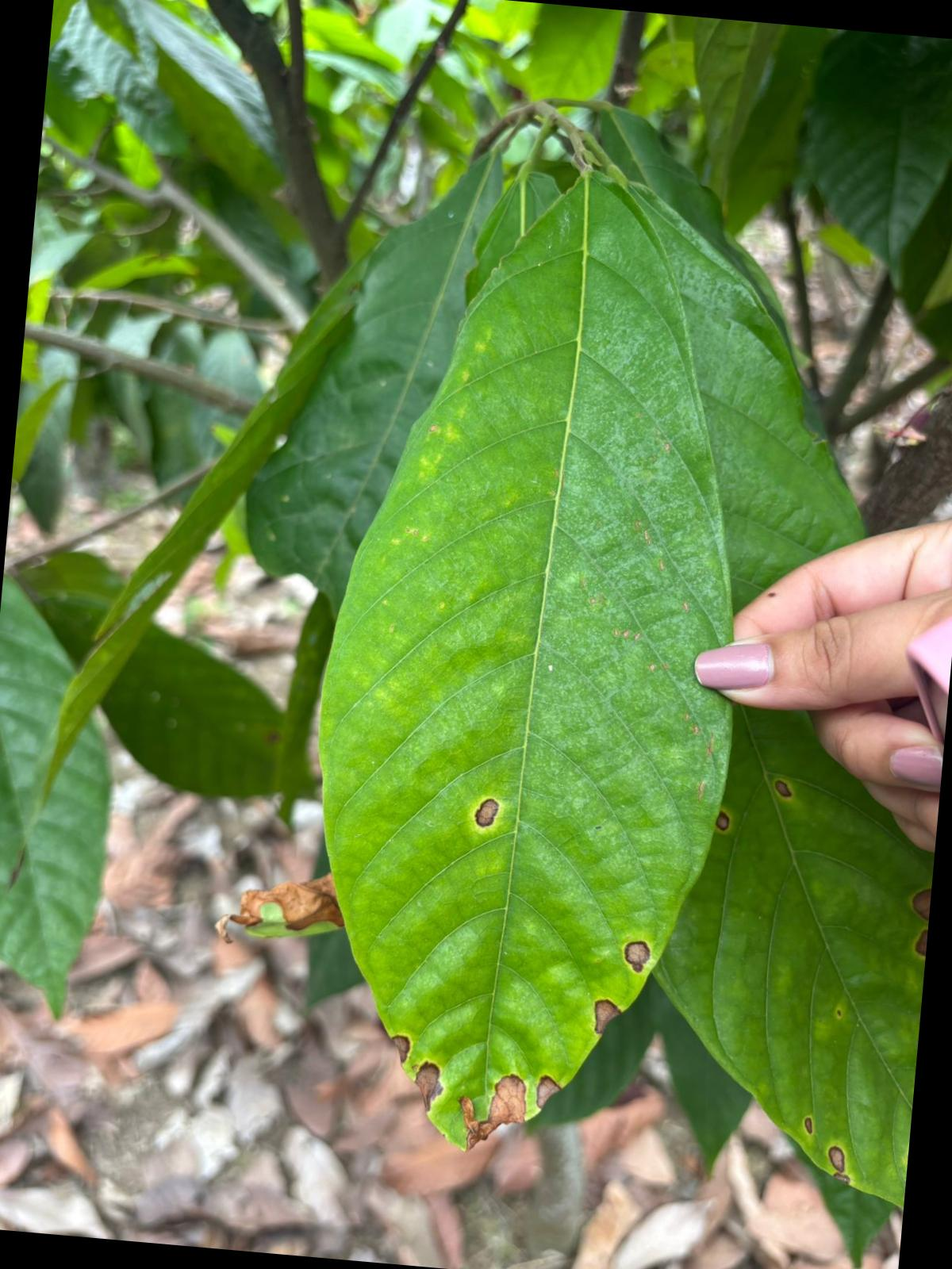Potasio: (320, 174, 732, 1147)
